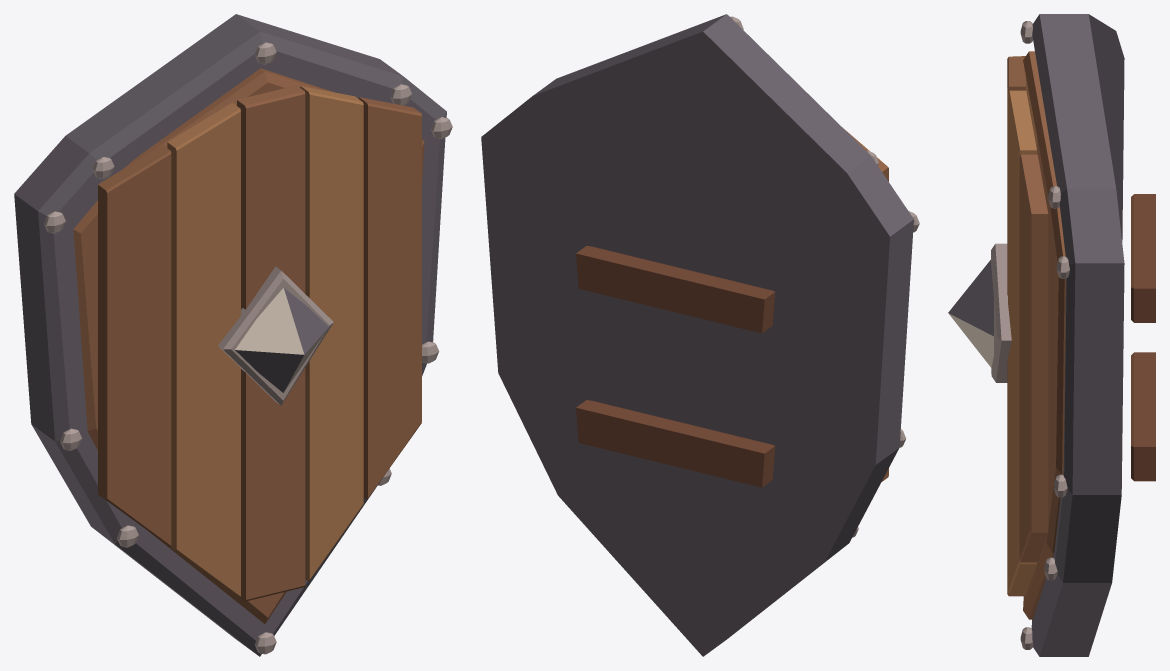
File: KiteShield.obj
3 views of the same model, side by side, from view 1: azimuth 30°, elevation 25°; view 2: azimuth 150°, elevation 25°; view 3: azimuth 270°, elevation 25° (orthographic). The views are drawn at different scales.
Parts seen in each view (by area): view 1: Body; view 2: Body; view 3: Body.
Boxes of the visible parts, <box> form: Body: <box>14,14,452,656</box>; Body: <box>481,14,919,656</box>; Body: <box>948,14,1155,656</box>.
Bounding box in the file's own units: 0.78 × 1.14 × 0.334.
1 material, 1 textured.
